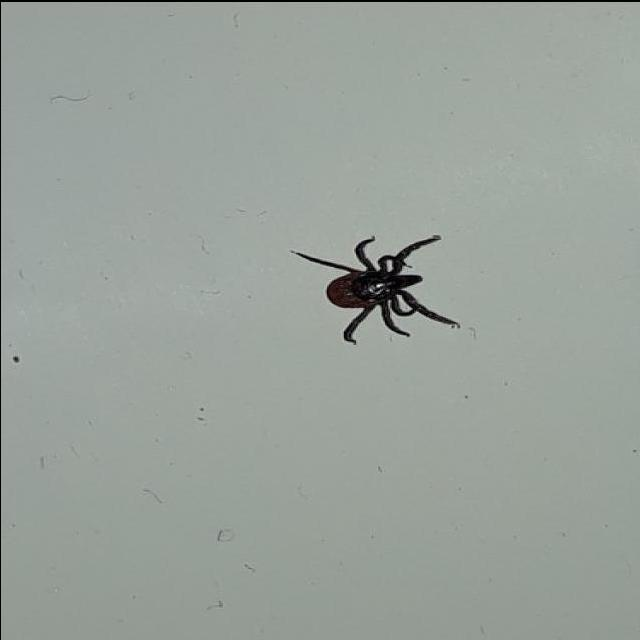Ixodes Ricinus-F: (287, 232, 459, 343)
